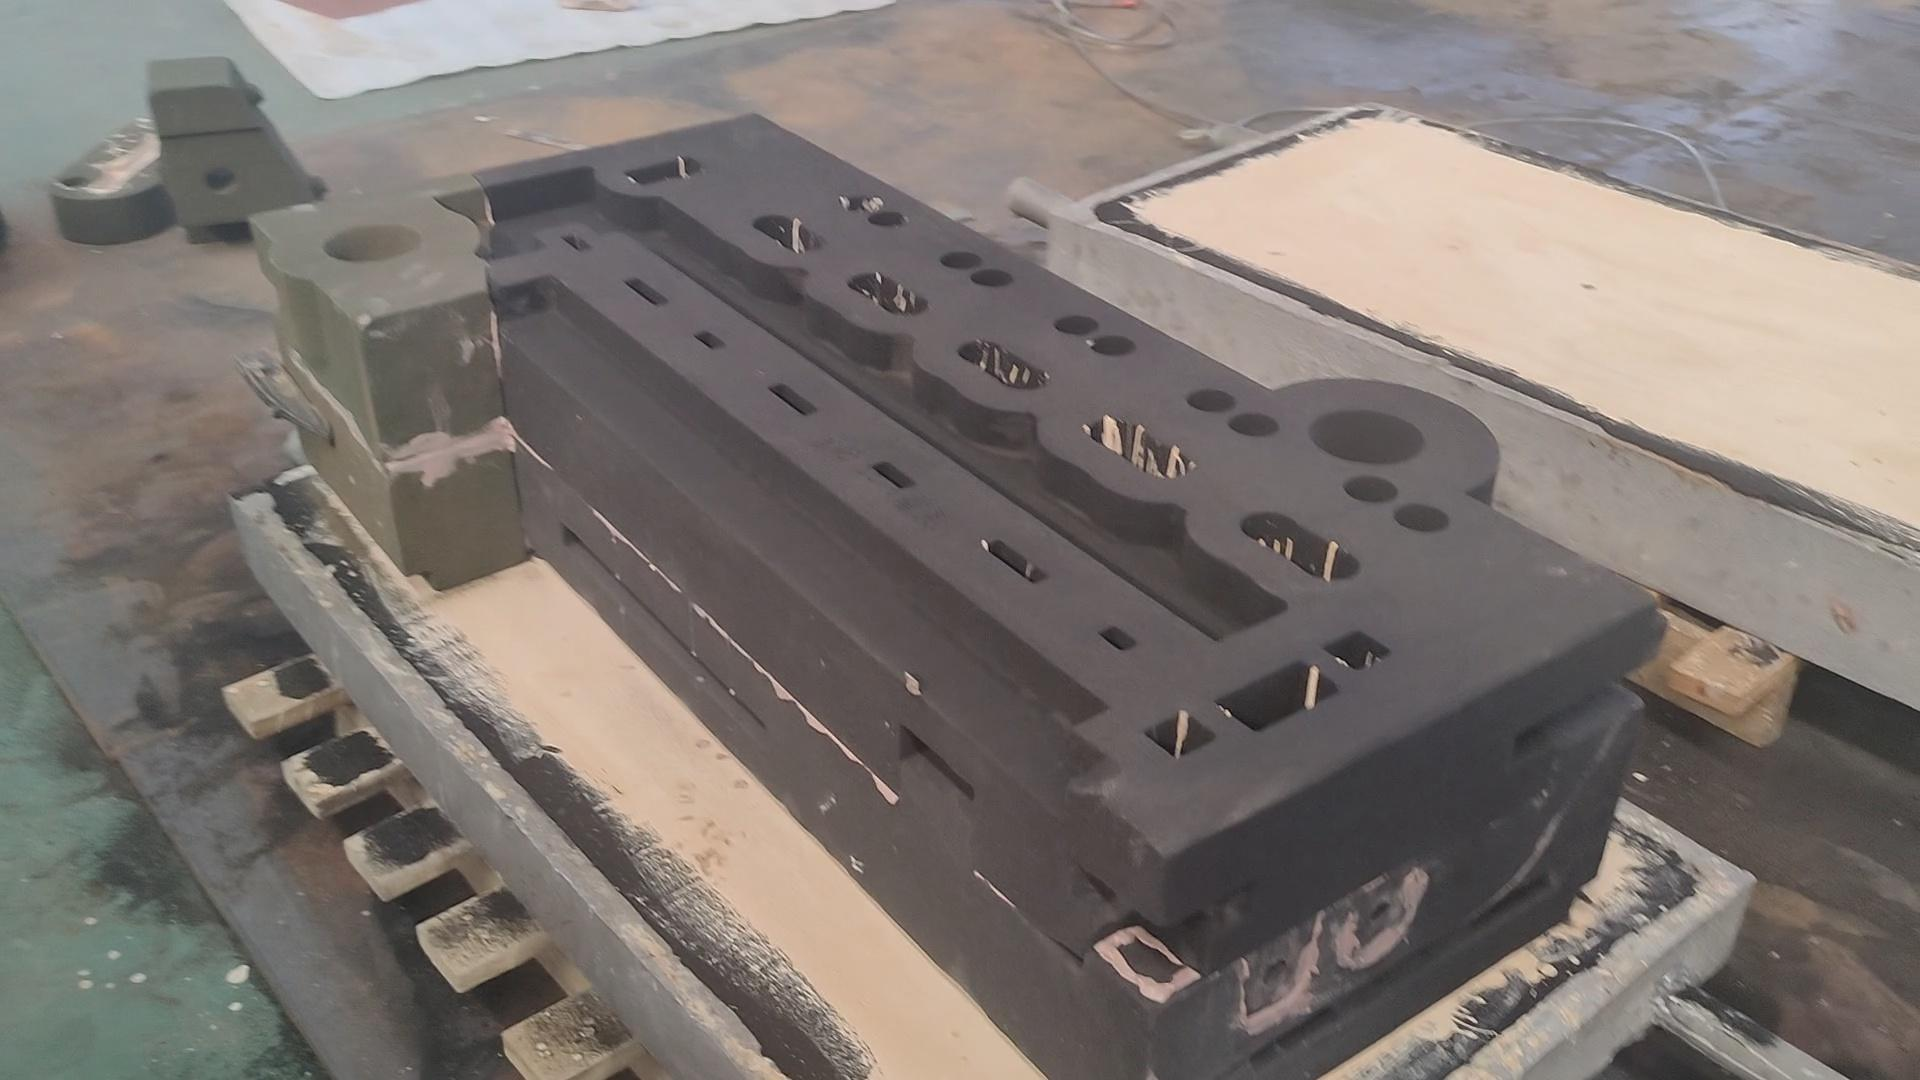pouring hole: (1308, 409, 1424, 463), (320, 224, 421, 261)
